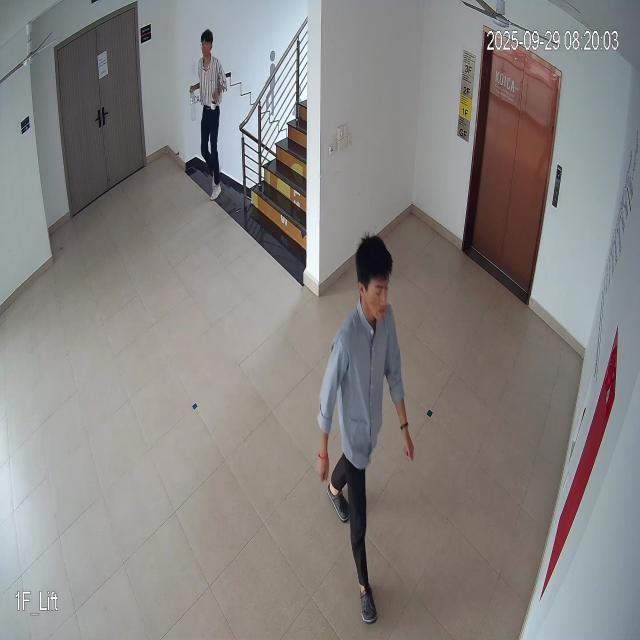face: (351, 222, 396, 329), (197, 24, 216, 62)
